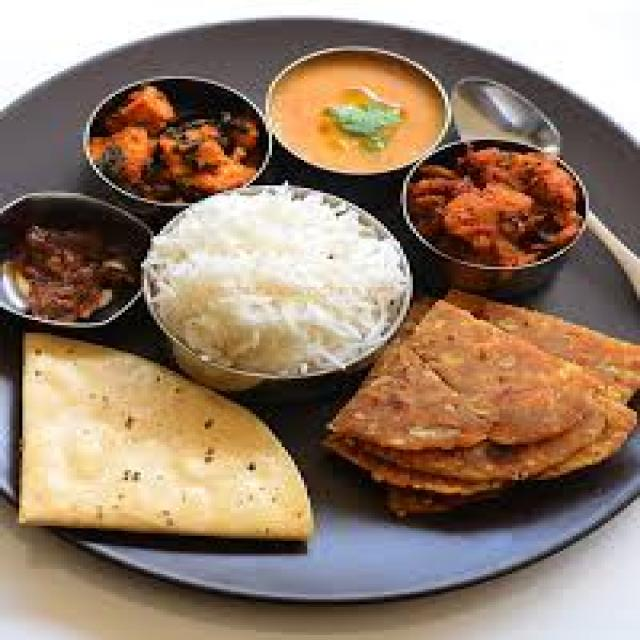Rice: (166, 207, 368, 323)
chapathi: (15, 323, 271, 547)
